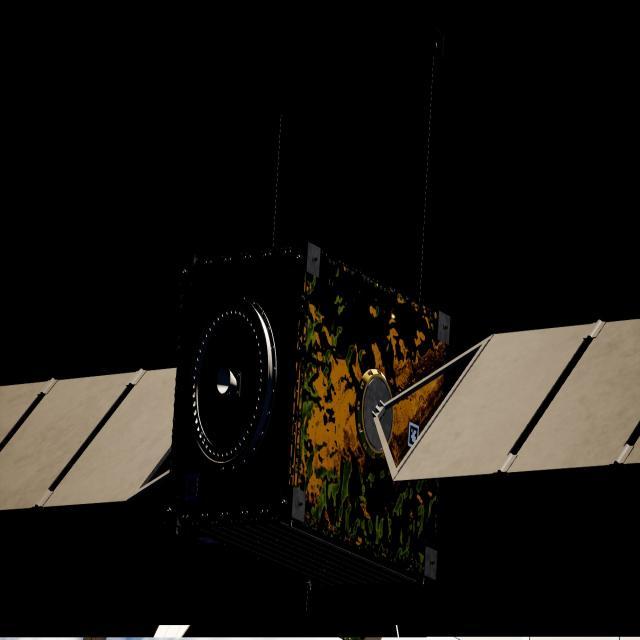medium_debris: (0, 246, 640, 606)
